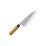Knife: (8, 10, 37, 35)
